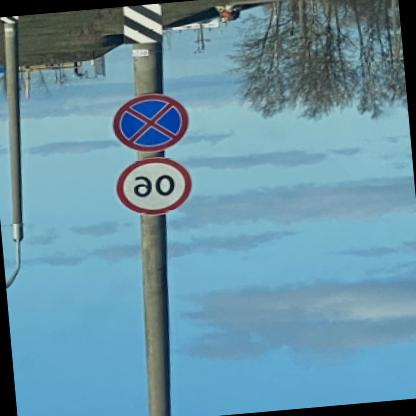speedlimit: (112, 156, 193, 219)
